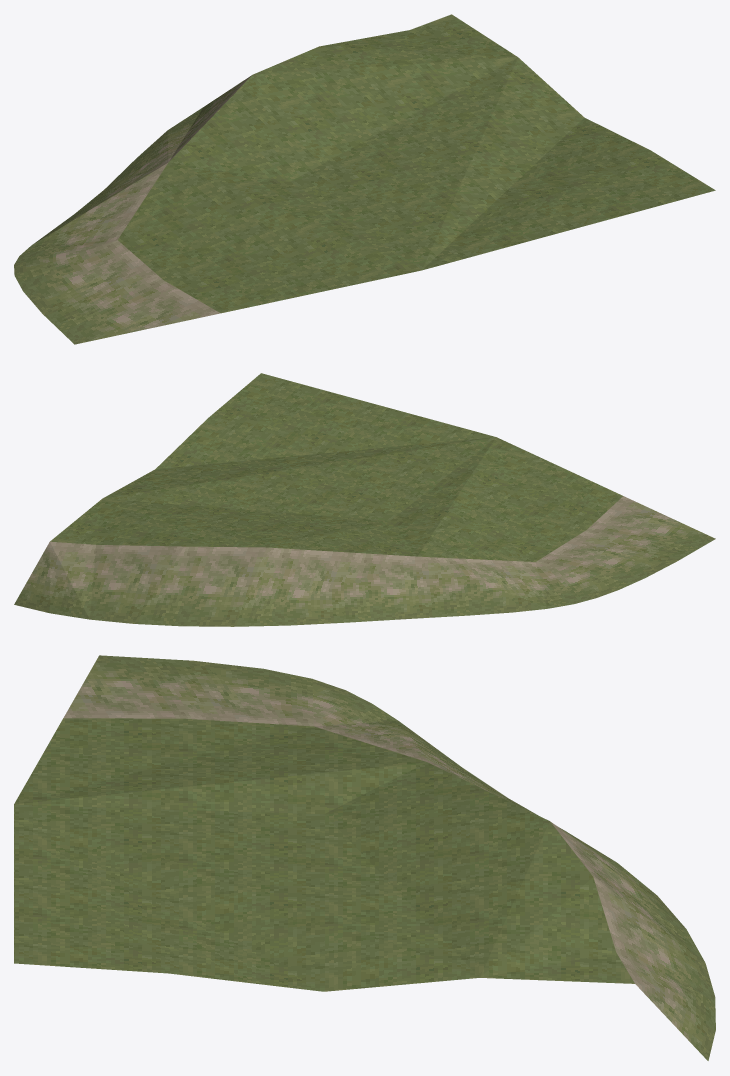
File: lod_cen_bit_23.obj
The picture shows the model from 3 angles, top to bottom: view 1: azimuth 30°, elevation 25°; view 2: azimuth 150°, elevation 25°; view 3: azimuth 270°, elevation 25°; orthographic projection. The views are drawn at different scales.
Visible parts, largest first — view 1: lod_cen_bit_23; view 2: lod_cen_bit_23; view 3: lod_cen_bit_23.
Boxes of the visible parts, x1,y1,x2,y2 form: lod_cen_bit_23: (14,14,715,344); lod_cen_bit_23: (14,373,715,626); lod_cen_bit_23: (14,655,715,1060).
Size of the model in its own units: 115 by 14.78 by 96.33.
2 materials, 2 textured.
